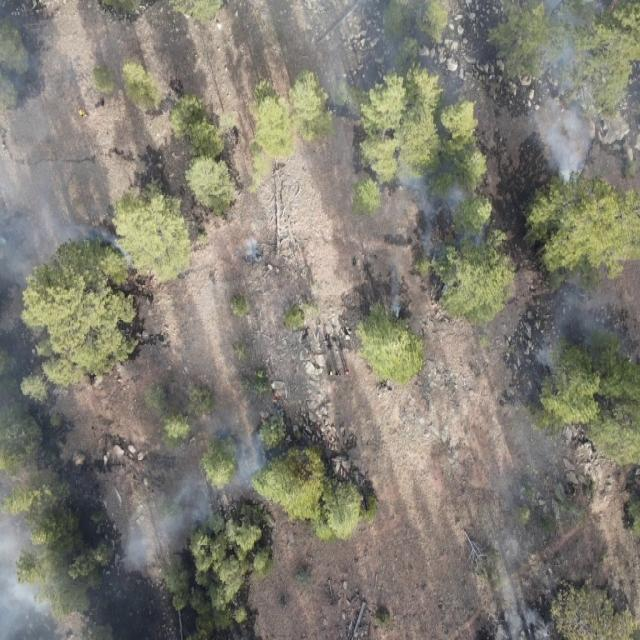fire: (272, 392, 280, 401)
smoke: (0, 1, 137, 300), (352, 155, 499, 327), (106, 422, 274, 572), (507, 0, 627, 188), (302, 0, 467, 108), (0, 450, 71, 640), (522, 278, 632, 398), (466, 541, 562, 640), (224, 210, 269, 268)
